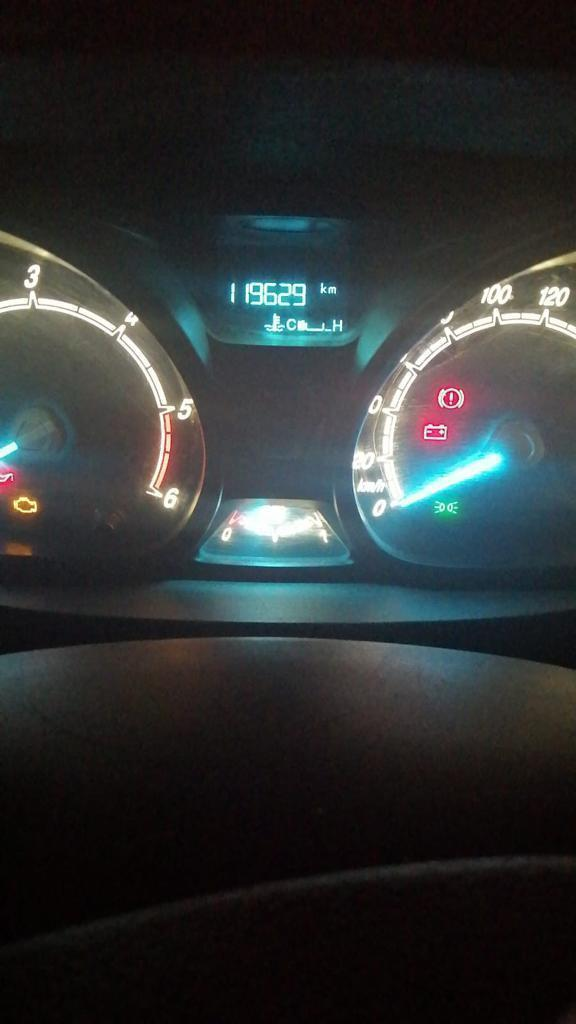1: (229, 279, 235, 306), (244, 280, 249, 306)
2: (278, 281, 291, 307)
6: (264, 281, 277, 306)
9: (250, 281, 263, 306), (293, 283, 307, 306)
X: (331, 317, 343, 333), (285, 317, 296, 331), (319, 281, 326, 294), (327, 285, 337, 294)
odometer: (214, 261, 356, 335)
